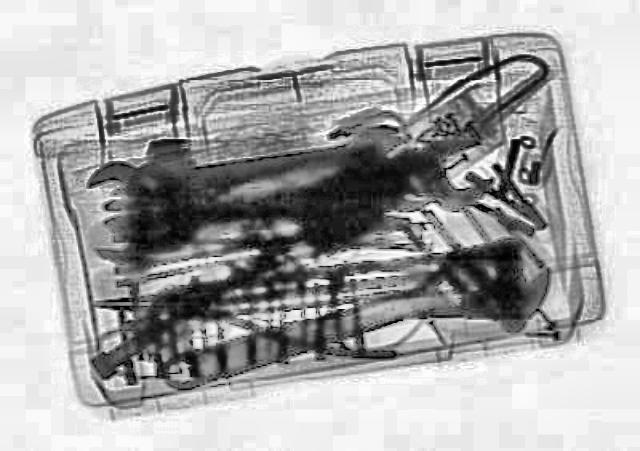Wrench: (128, 227, 580, 420), (78, 116, 412, 214), (276, 133, 502, 237)
